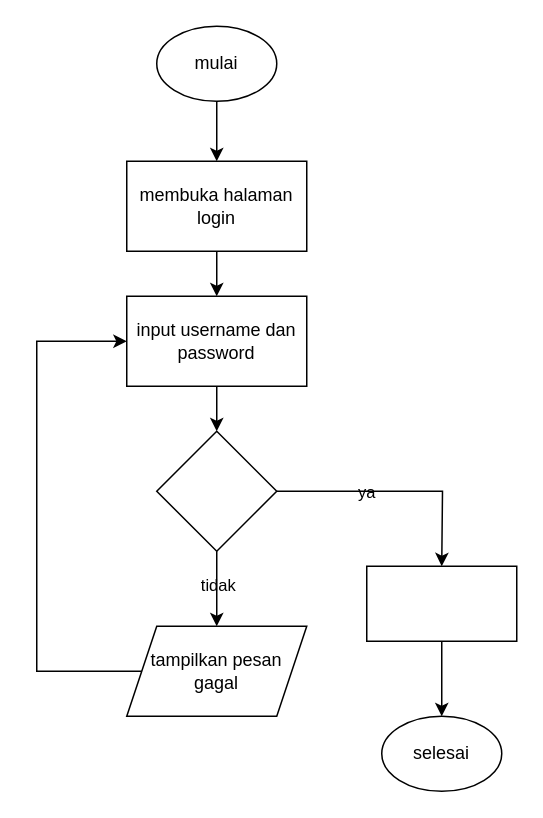
Some shapes in this 543 by 818 pixel diagram are drawn without their labels. The box of each missing label's shape, as (x1, y1, x2, y2) in pixels:
akun valid ?: (155, 430, 277, 551)
dashboard: (365, 565, 517, 641)
